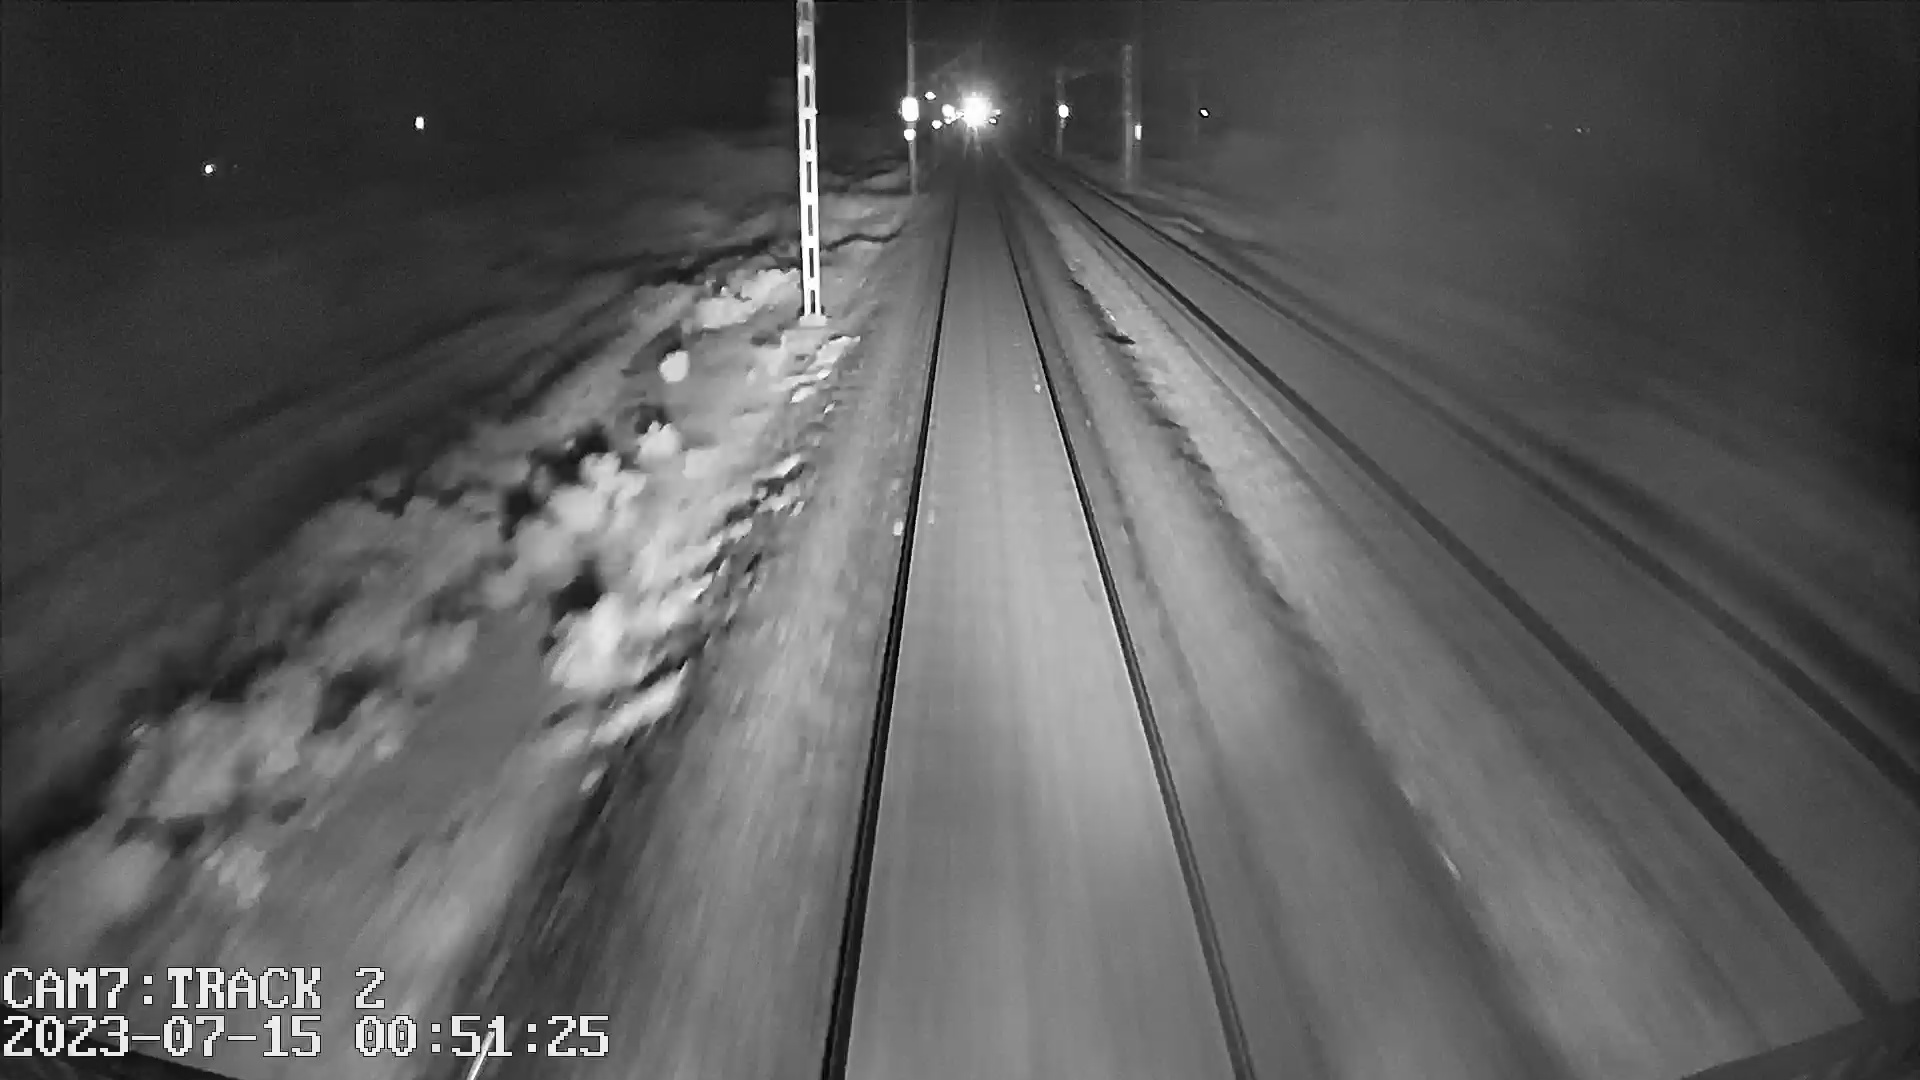track1: (836, 177, 1242, 1059)
track2: (1072, 196, 1898, 887)
